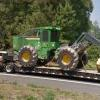Tractor: (8, 19, 84, 72)
